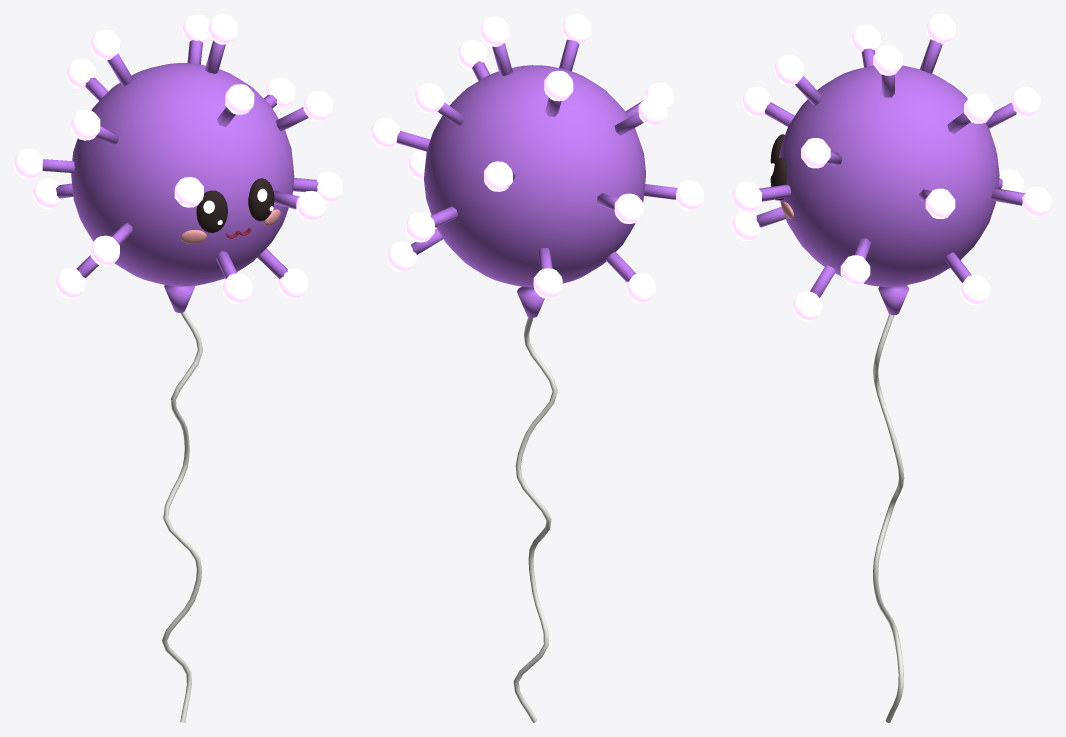
Rendered from B06_Virus.glb.
3 renders of one model, left to right at view 1: azimuth 30°, elevation 25°; view 2: azimuth 150°, elevation 25°; view 3: azimuth 270°, elevation 25°, orthographic.
Parts seen in each view (by area): view 1: B06_Virus_Mesh, B06_Eye_L, B06_Eye_R; view 2: B06_Virus_Mesh; view 3: B06_Virus_Mesh.
Part boxes in pixels (<box>): B06_Virus_Mesh: <box>14,14,342,722</box>; B06_Eye_L: <box>196,190,227,232</box>; B06_Eye_R: <box>248,178,274,221</box>; B06_Virus_Mesh: <box>371,14,703,722</box>; B06_Virus_Mesh: <box>732,14,1051,722</box>.
Size of the model in its own units: 0.7167 by 1.72 by 0.7169.
